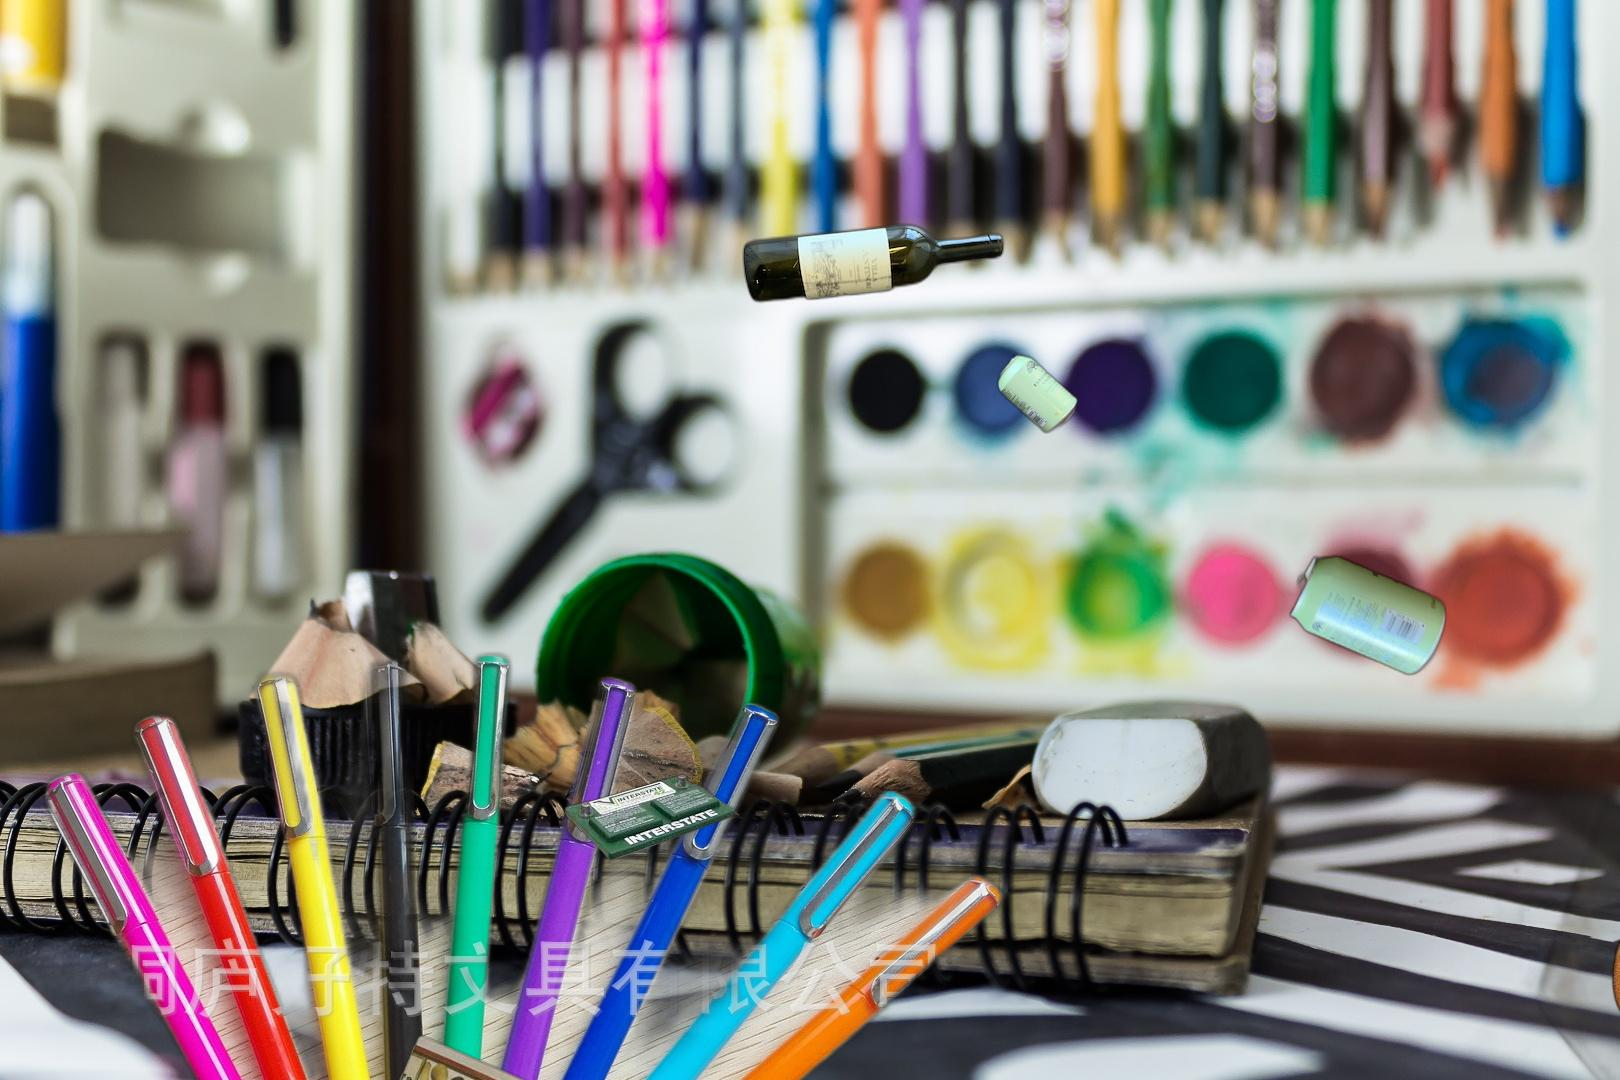battery: (554, 770, 738, 863)
glass: (739, 218, 1116, 327)
metal-cans: (1287, 550, 1451, 681), (993, 350, 1082, 439)
paper: (315, 1033, 749, 1080)
penholder: (39, 469, 1014, 1080)
plastic-bag: (1458, 912, 1620, 1080)
trashbox-cardboard: (1492, 730, 1620, 1080)
